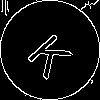K: (25, 25, 82, 81)
